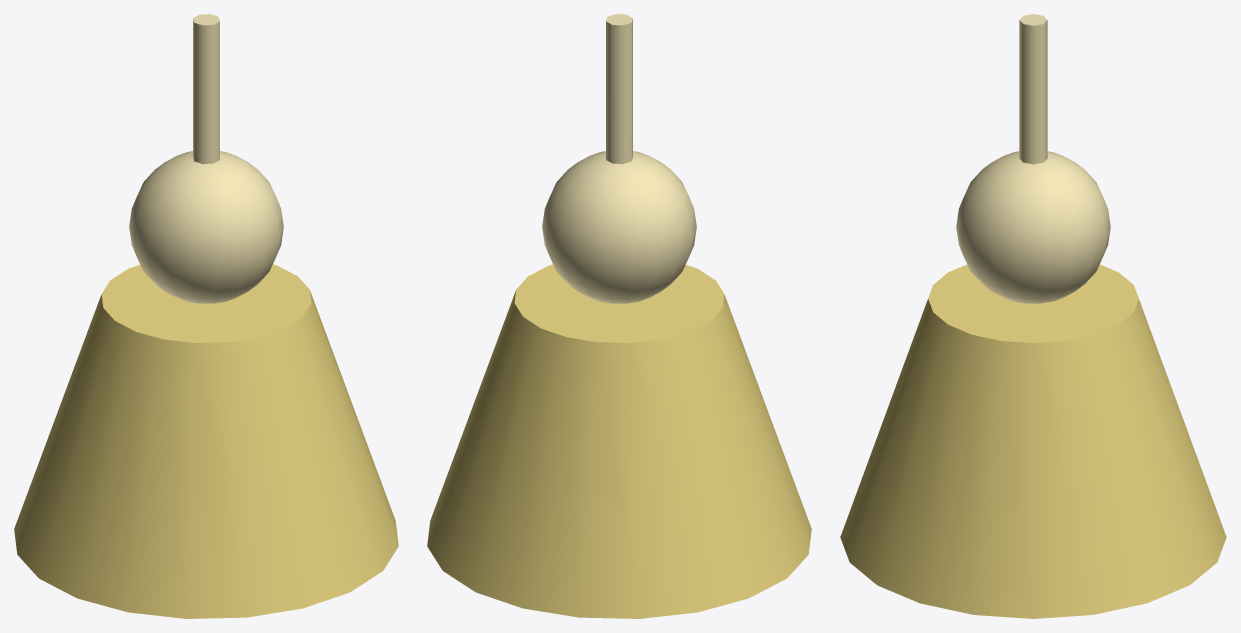
The model's file is VM-ACC-EXT146.glb.
3 views of the same model, side by side, from view 1: azimuth 30°, elevation 25°; view 2: azimuth 150°, elevation 25°; view 3: azimuth 270°, elevation 25° (orthographic).
Visible parts, largest first — view 1: Volante de Plumas; view 2: Volante de Plumas; view 3: Volante de Plumas.
Part boxes in pixels (x1,y1,x2,y2): Volante de Plumas: (14,14,398,618); Volante de Plumas: (427,14,811,618); Volante de Plumas: (840,14,1226,618).
Size of the model in its own units: 0.1133 by 0.1674 by 0.1133.
